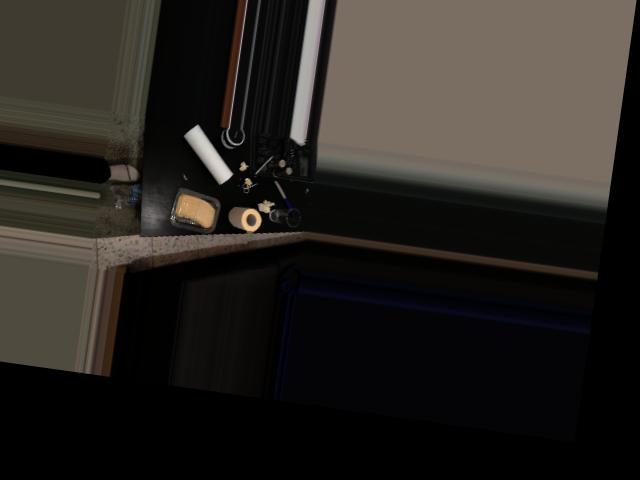cheese: (163, 184, 223, 236)
